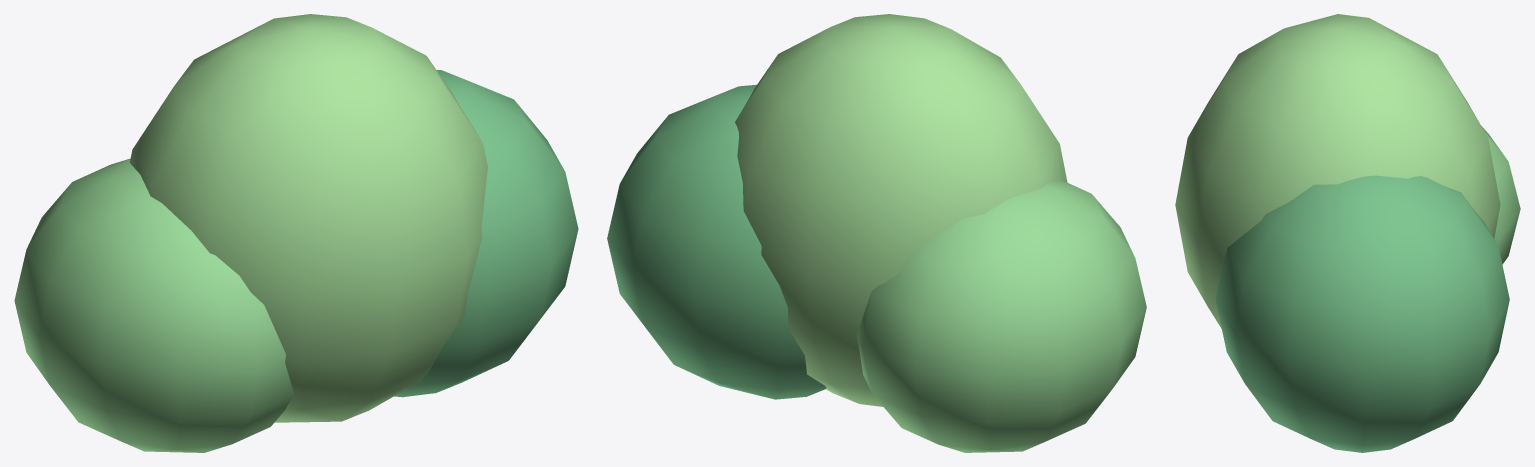
Rendered from shrub_summer_low.glb.
The picture shows the model from 3 angles, left to right: view 1: azimuth 30°, elevation 25°; view 2: azimuth 150°, elevation 25°; view 3: azimuth 270°, elevation 25°; orthographic projection. The views are drawn at different scales.
Size of the model in its own units: 1.77 by 1.27 by 1.11.
